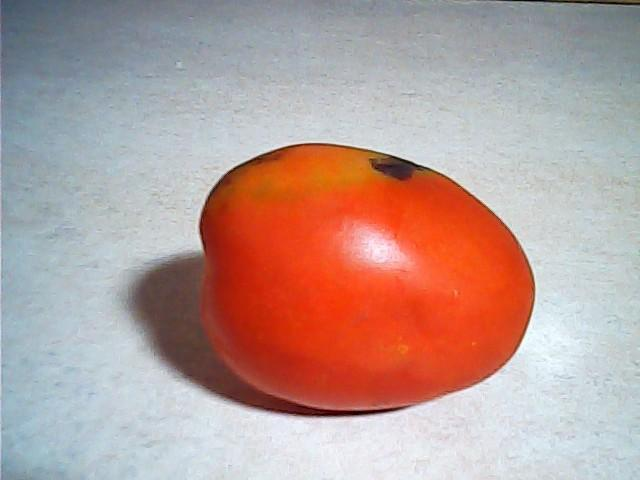defectuoso: (198, 138, 540, 418)
